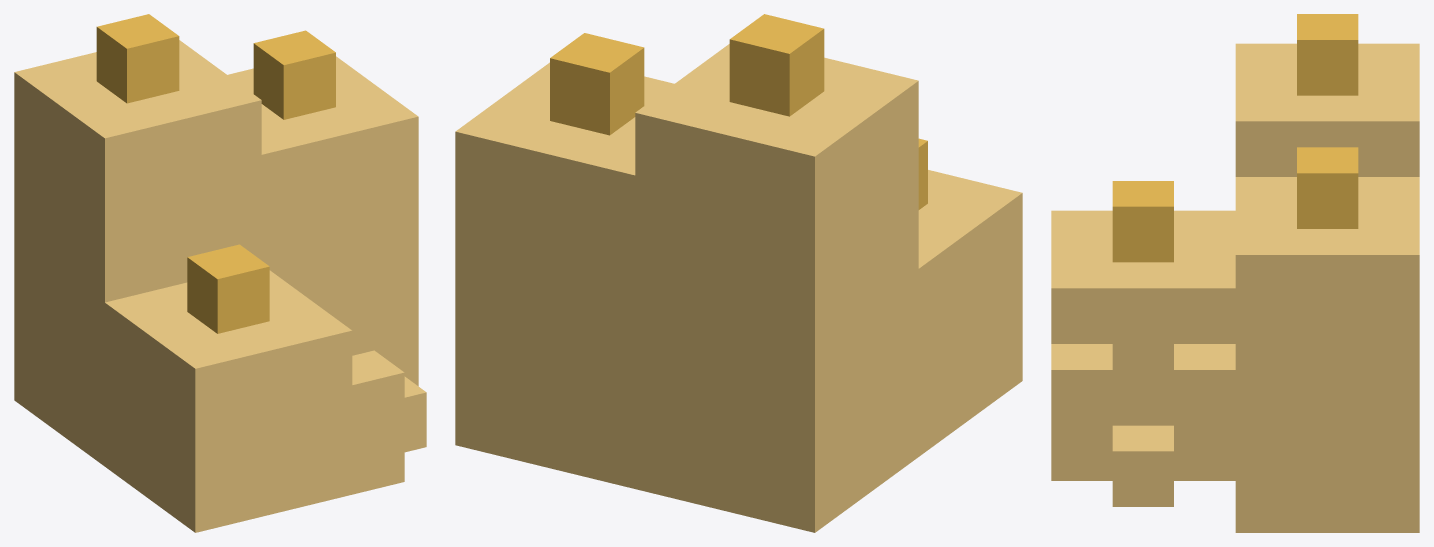
Rendered from Stenka1-14.obj.
3 views of the same model, side by side, from view 1: azimuth 30°, elevation 25°; view 2: azimuth 150°, elevation 25°; view 3: azimuth 270°, elevation 25° (orthographic). The views are drawn at different scales.
Size of the model in its own units: 0.6 by 0.7 by 0.6.
Materials: 1 (1 with a texture image).
